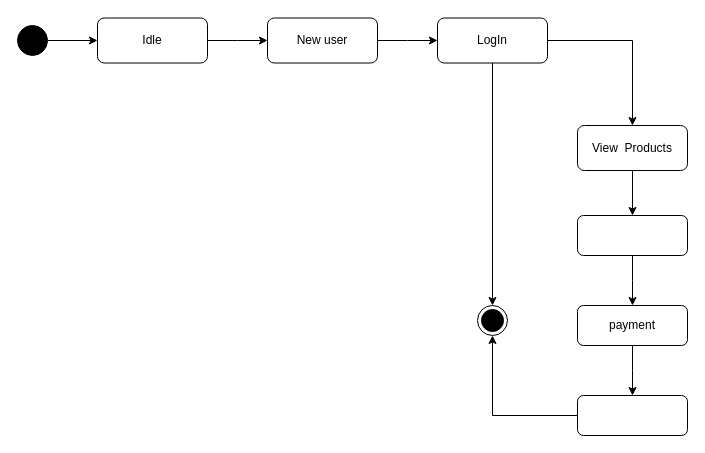
Image size: 705x453. Some labels were removed from this diagram. The shapes that lost their labels are listed below. From the top down, each one's box as (x1, y1, x2, y2) in pixels, then its label:
(576, 214, 688, 256): place order
(576, 394, 688, 436): order Confirmation
